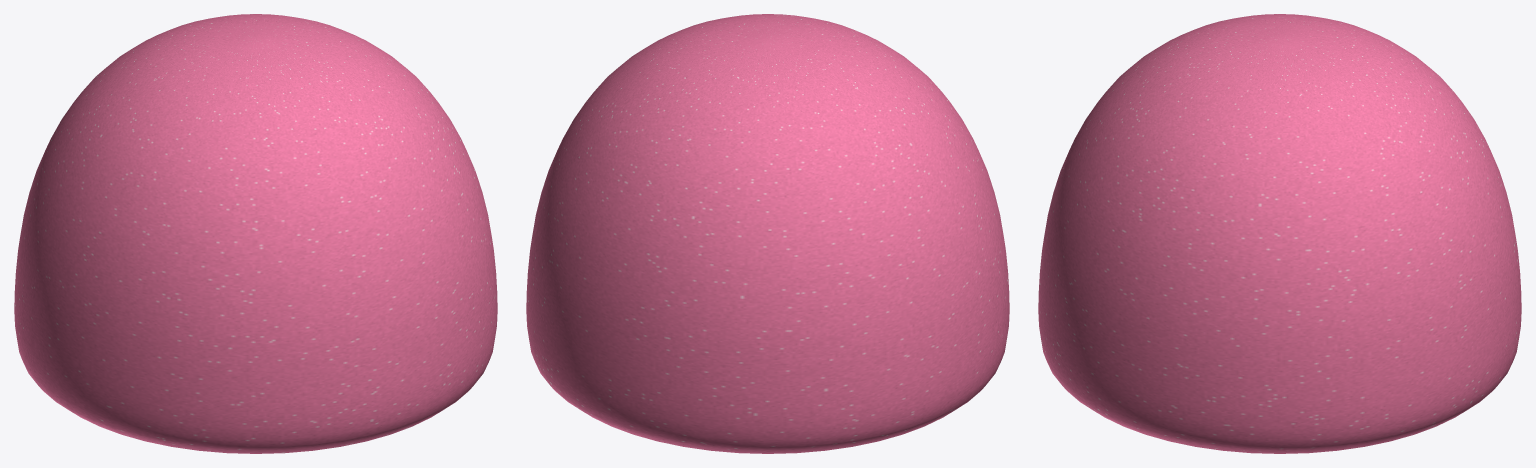
File: gumdrop.glb
The picture shows the model from 3 angles, left to right: view 1: azimuth 30°, elevation 25°; view 2: azimuth 150°, elevation 25°; view 3: azimuth 270°, elevation 25°; orthographic projection.
Visible parts, largest first — view 1: gumdrop; view 2: gumdrop; view 3: gumdrop.
Part boxes in pixels (left/top/right/bottom): gumdrop: left=14, top=14, right=497, bottom=453; gumdrop: left=526, top=14, right=1009, bottom=453; gumdrop: left=1038, top=14, right=1521, bottom=453.
Bounding box in the file's own units: 2 × 1.48 × 2.
1 material, 1 textured.
